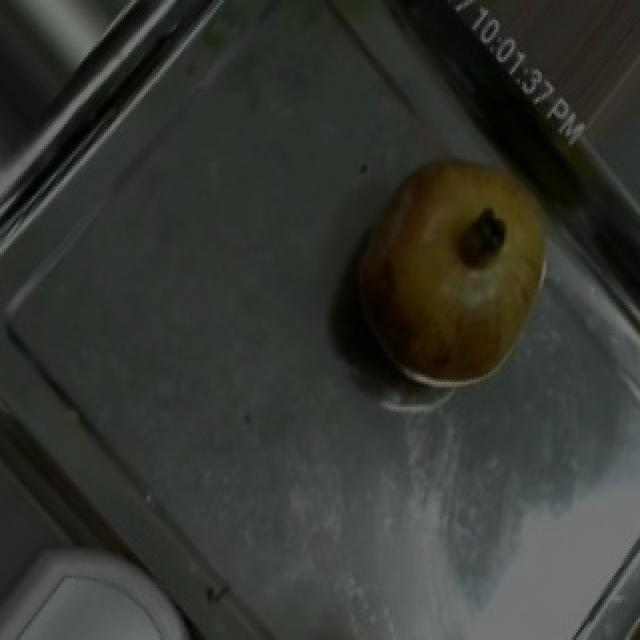fruit: (334, 129, 580, 407)
